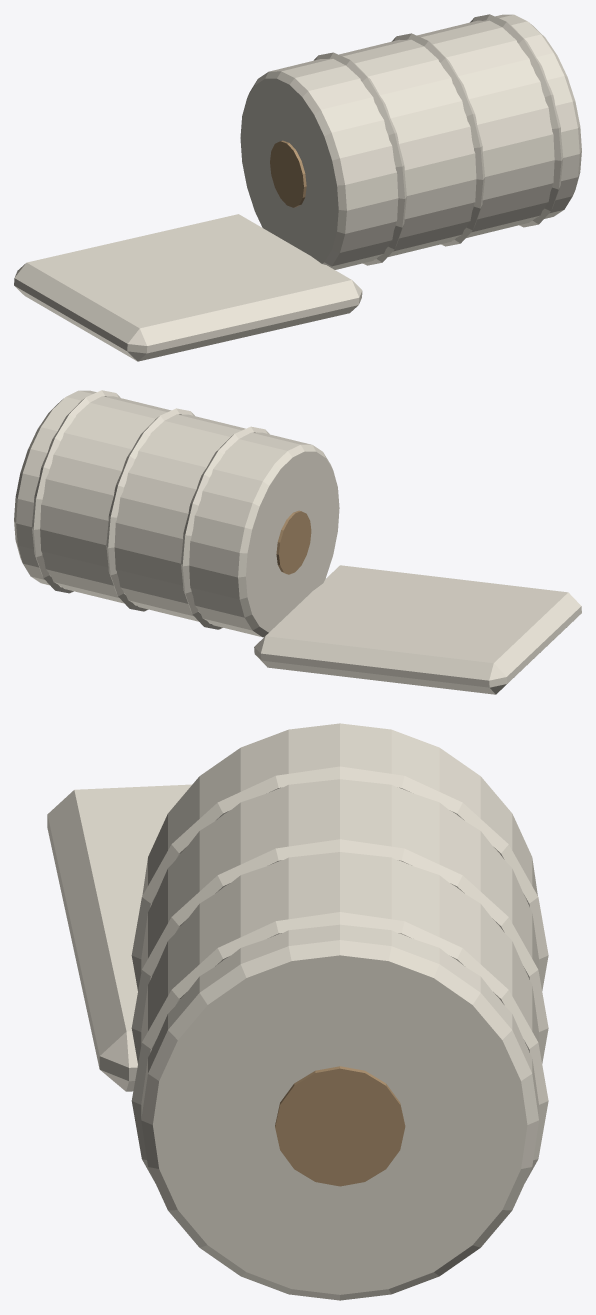
Rendered from item_bandage.glb.
3 renders of one model, top to bottom at view 1: azimuth 30°, elevation 25°; view 2: azimuth 150°, elevation 25°; view 3: azimuth 270°, elevation 25°, orthographic. The views are drawn at different scales.
Parts seen in each view (by area): view 1: item_bandage; view 2: item_bandage; view 3: item_bandage.
Part boxes in pixels (x1,y1,x2,y2): item_bandage: (14, 14, 581, 361); item_bandage: (14, 390, 581, 694); item_bandage: (47, 723, 548, 1300).
Bounding box in the file's own units: 0.2856 × 0.109 × 0.131.
